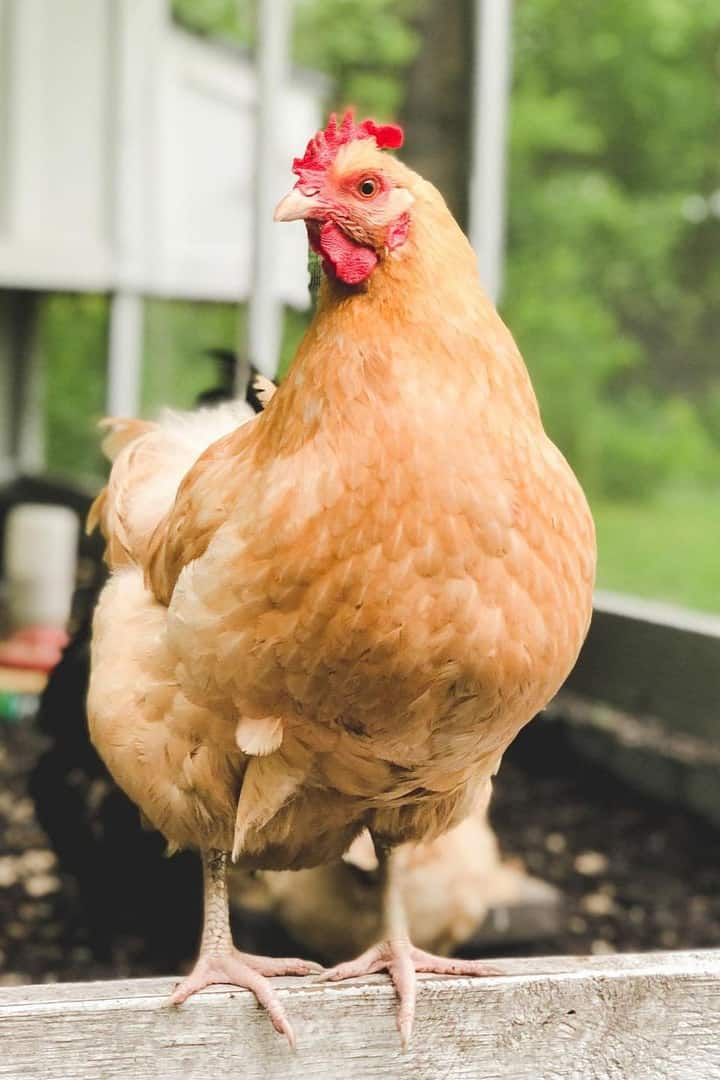buff: (221, 95, 616, 478)
